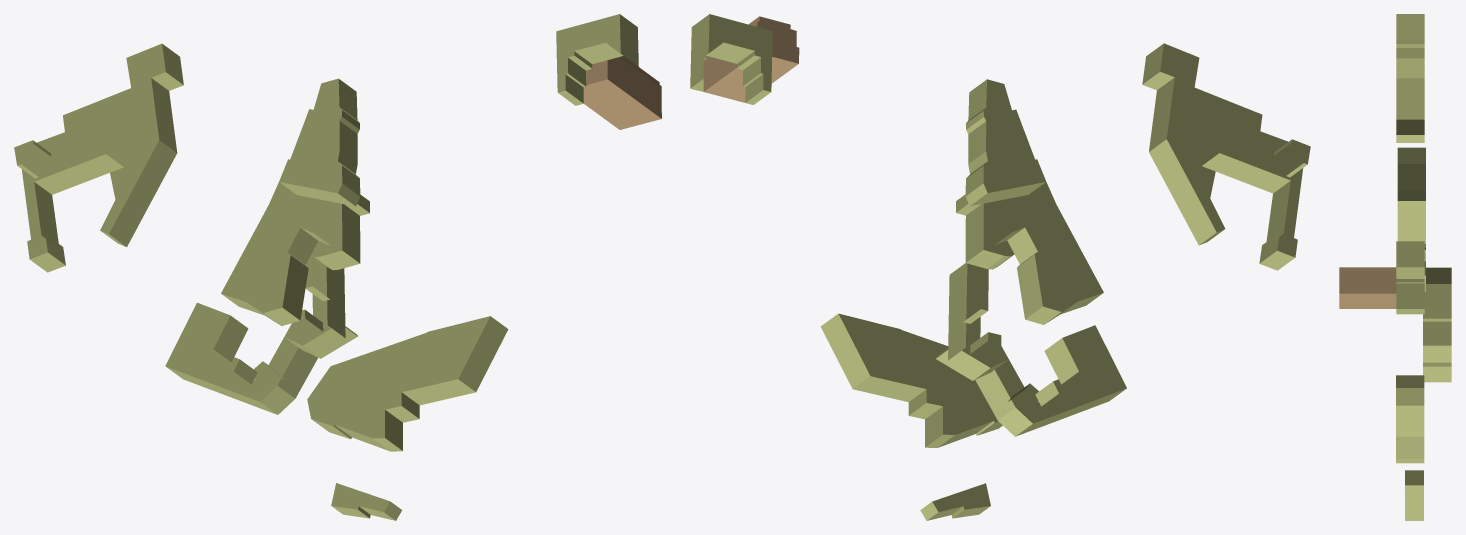
The picture shows the model from 3 angles, left to right: view 1: azimuth 30°, elevation 25°; view 2: azimuth 150°, elevation 25°; view 3: azimuth 270°, elevation 25°; orthographic projection. The views are drawn at different scales.
Parts seen in each view (by area): view 1: 0_0_2_0_1_1_0; view 2: 0_0_2_0_1_1_0; view 3: 0_0_2_0_1_1_0.
Part boxes in pixels (x1,y1,x2,y2): 0_0_2_0_1_1_0: (14,14,661,520); 0_0_2_0_1_1_0: (690,14,1310,520); 0_0_2_0_1_1_0: (1339,14,1451,520).
Bounding box in the file's own units: 175 × 144 × 35.5.
